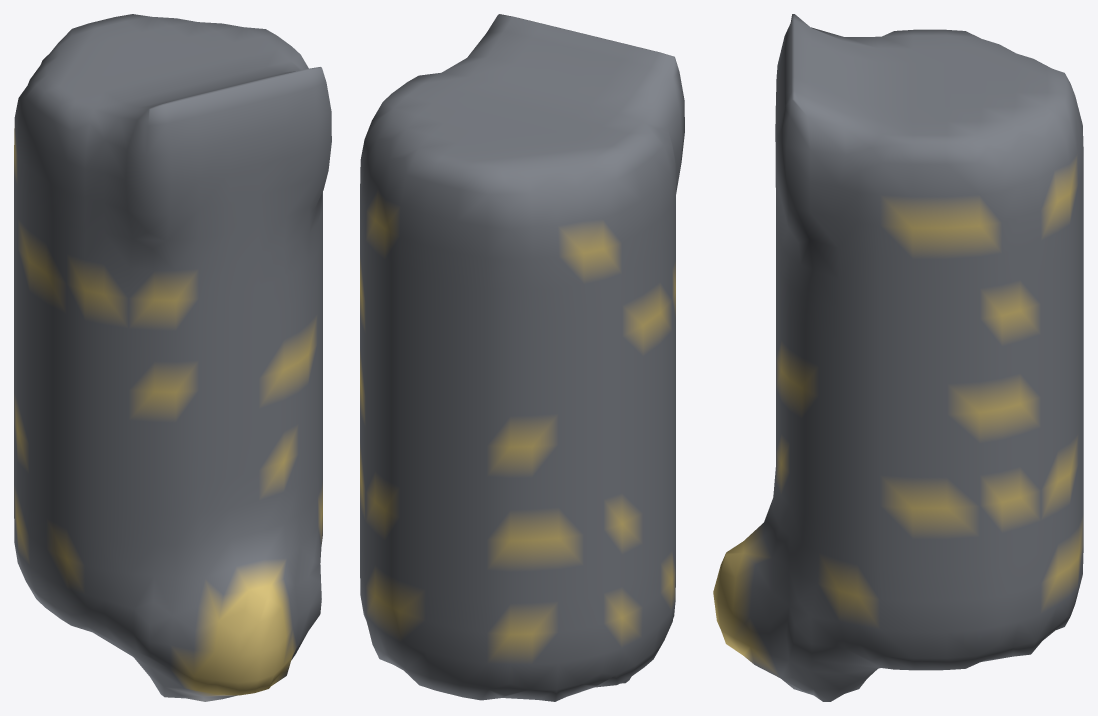
The model's file is plate_epic_leg_L_lod1.glb.
3 renders of one model, left to right at view 1: azimuth 30°, elevation 25°; view 2: azimuth 150°, elevation 25°; view 3: azimuth 270°, elevation 25°, orthographic. The views are drawn at different scales.
Parts seen in each view (by area): view 1: plate_epic_leg_L_lod1; view 2: plate_epic_leg_L_lod1; view 3: plate_epic_leg_L_lod1.
Part boxes in pixels (x1,y1,x2,y2): plate_epic_leg_L_lod1: [14, 14, 331, 701]; plate_epic_leg_L_lod1: [360, 14, 684, 701]; plate_epic_leg_L_lod1: [713, 14, 1083, 701].
Bounding box in the file's own units: 0.215 × 0.4792 × 0.259.
